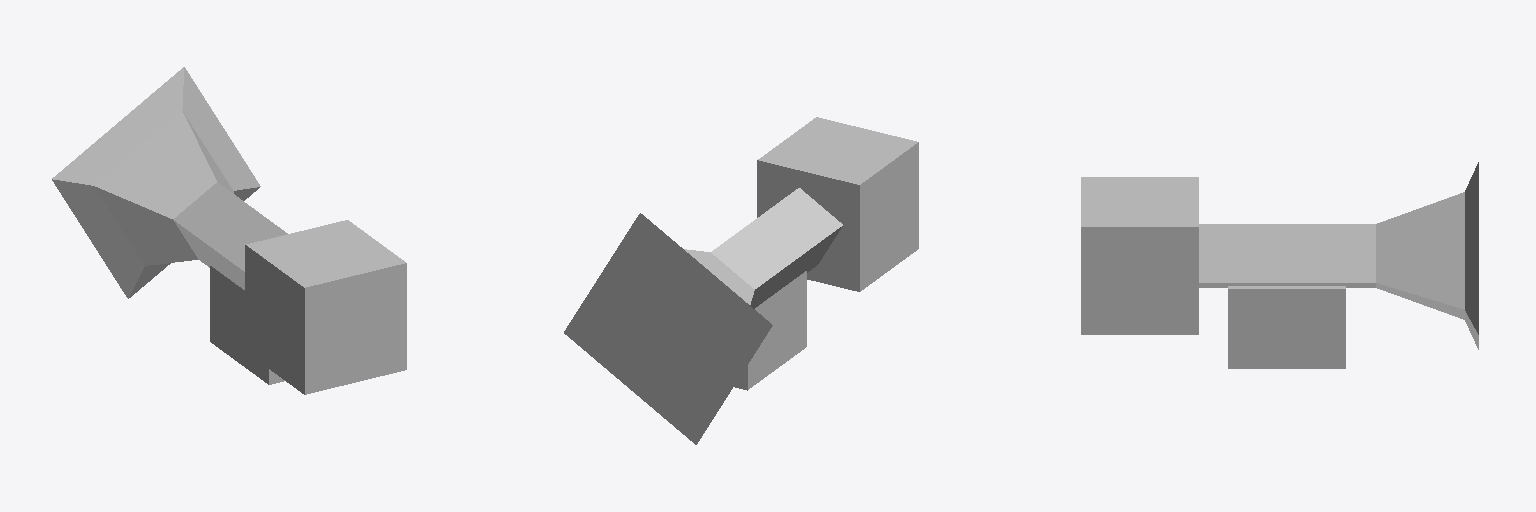
Rendered from horn.obj.
The picture shows the model from 3 angles: view 1: azimuth 30°, elevation 25°; view 2: azimuth 150°, elevation 25°; view 3: azimuth 270°, elevation 25°; orthographic projection.
Parts seen in each view (by area): view 1: cube0, cuboid0, cuboid1, cube1, cube2; view 2: cuboid0, cube0, cube1, cube2, cuboid1; view 3: cube0, cube1, cube2, cuboid1, cuboid0.
Boxes of the visible parts, x1,y1,x2,y2 form: cube0: [245, 220, 406, 394]; cuboid0: [52, 67, 260, 298]; cuboid1: [94, 111, 234, 265]; cube1: [173, 182, 287, 289]; cube2: [210, 266, 284, 384]; cuboid0: [564, 213, 772, 444]; cube0: [757, 117, 918, 291]; cube1: [711, 188, 842, 308]; cube2: [734, 271, 806, 390]; cuboid1: [684, 249, 754, 304]; cube0: [1081, 177, 1198, 334]; cube1: [1199, 224, 1375, 287]; cube2: [1228, 286, 1345, 368]; cuboid1: [1376, 192, 1464, 319]; cuboid0: [1465, 162, 1478, 349].
Bounding box in the file's own units: 0.5123 × 0.5123 × 0.8438.